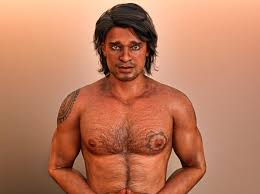middle_eastern_male: (101, 16, 156, 79)
